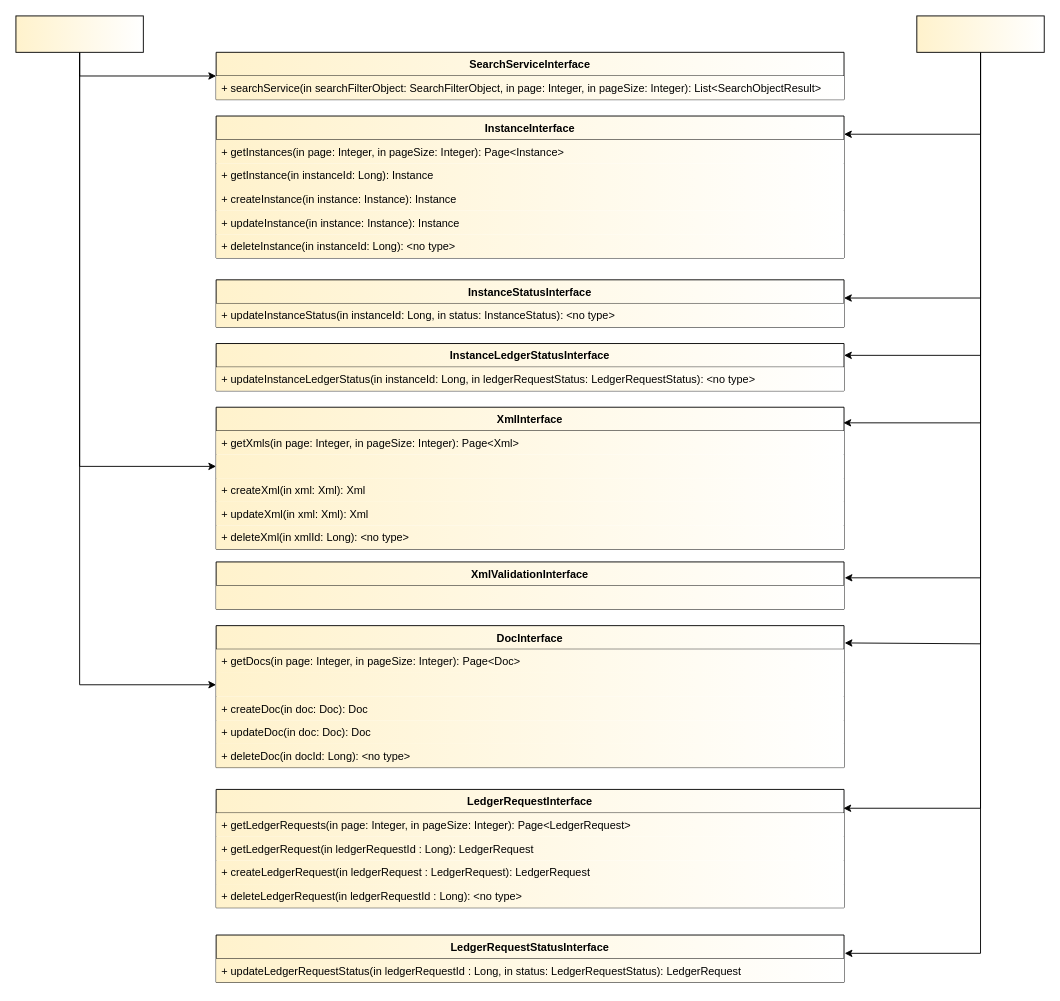
Some shapes in this 1060 by 1001 pixel diagram are drawn without their labels. The shapes that lost their labels are listed below. From the top down, each one's centre as x and y in pixels, then its label:
[79,33]: Service Consumer
[980,33]: Service Provider
[530,466]: + getXml(in xmlId: Long): Xml
[530,597]: + validateXml(in schema: G1128Schemas, in xml: string): boolean
[530,684]: + getDoc(in docId: Long): Doc
